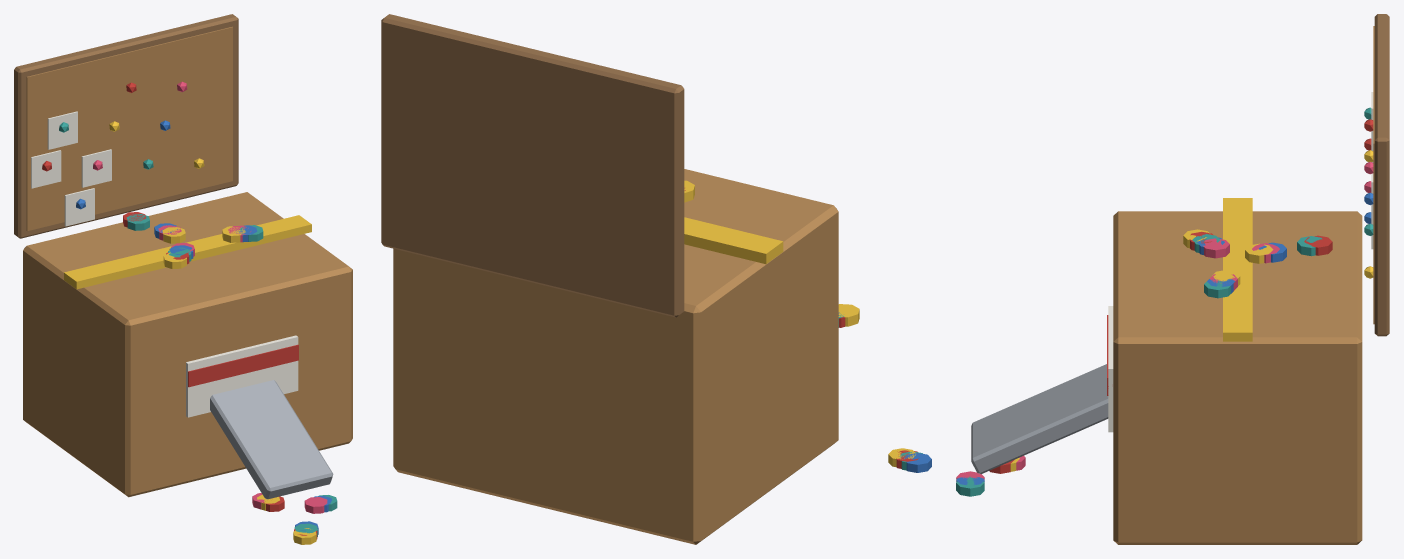
The model's file is thumbtacks_3.glb.
3 views of the same model, side by side, from view 1: azimuth 30°, elevation 25°; view 2: azimuth 150°, elevation 25°; view 3: azimuth 270°, elevation 25° (orthographic). The views are drawn at different scales.
Visible parts, largest first — view 1: thumbtacks_3_mesh; view 2: thumbtacks_3_mesh; view 3: thumbtacks_3_mesh.
Part boxes in pixels (box(x1,y1,x2,y2)): thumbtacks_3_mesh: box(14, 14, 352, 544); thumbtacks_3_mesh: box(381, 14, 859, 544); thumbtacks_3_mesh: box(888, 14, 1389, 544).
Bounding box in the file's own units: 0.64 × 0.9 × 1.01.
